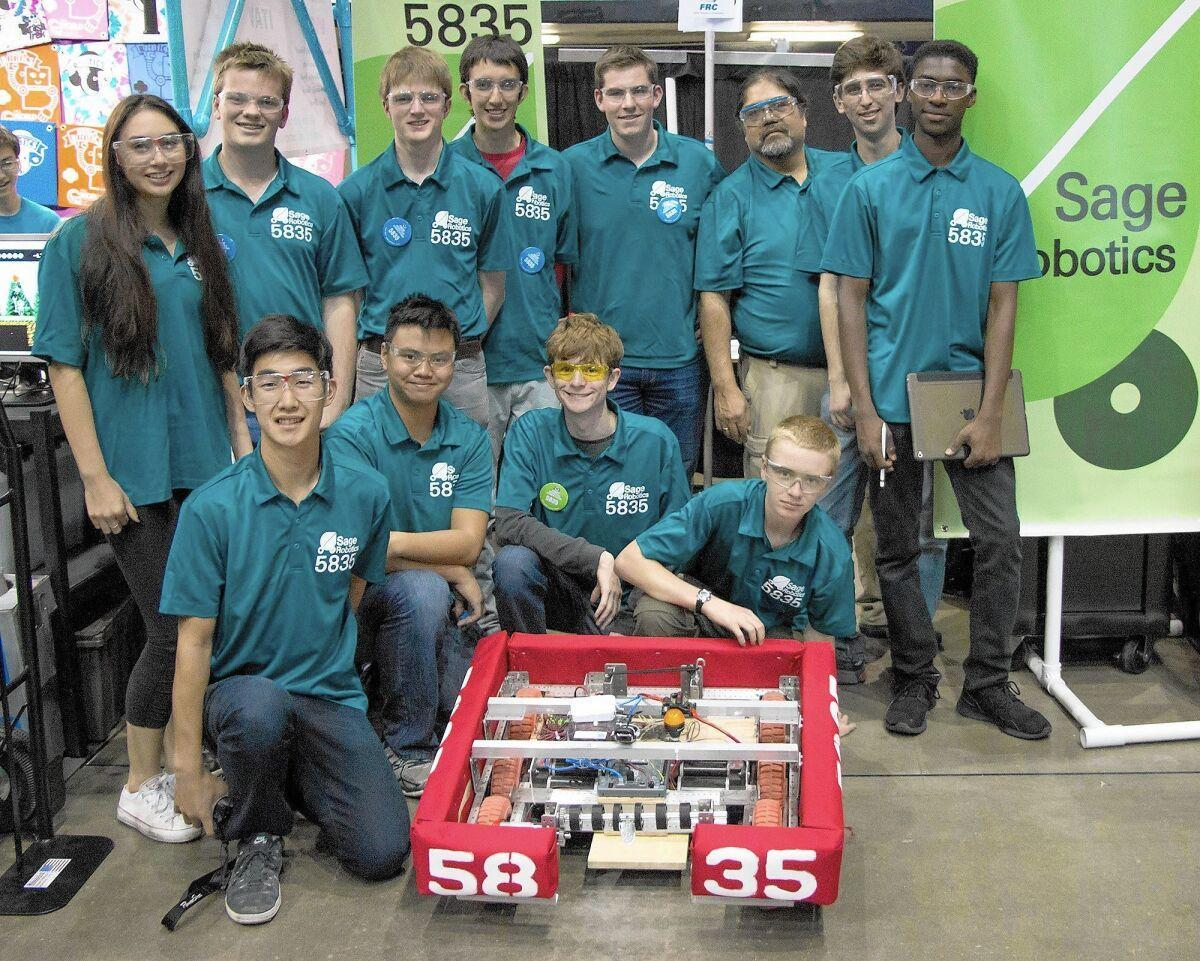robot: (401, 611, 859, 926)
